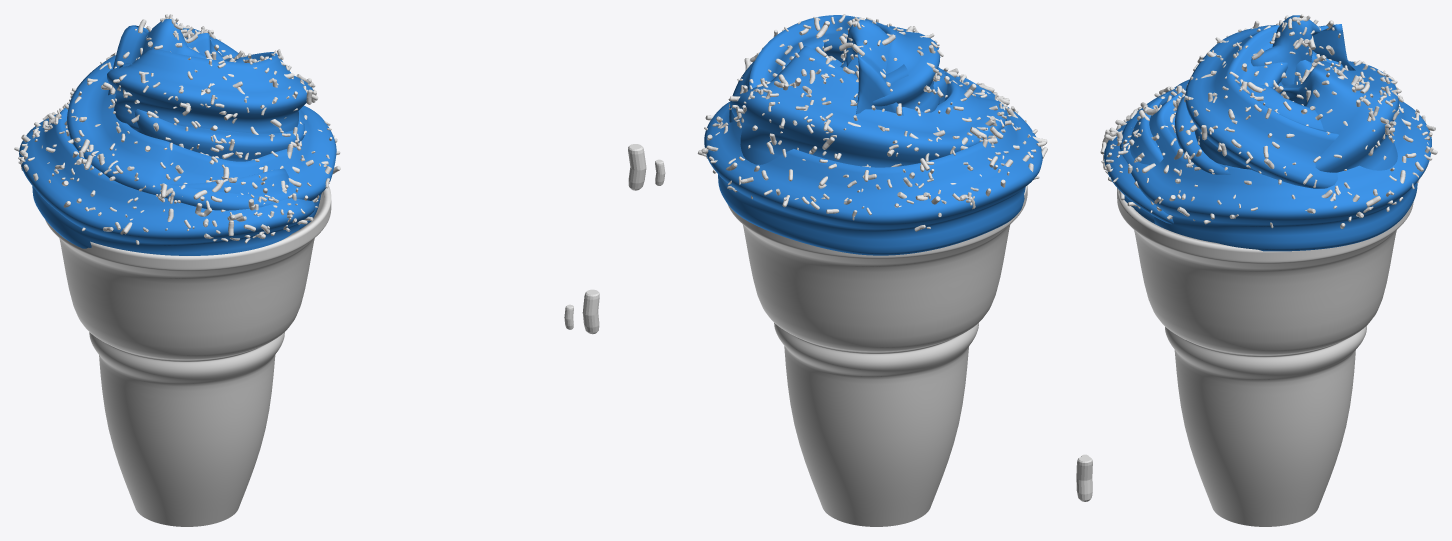
Rendered from BingChilling.fbx.
3 renders of one model, left to right at view 1: azimuth 30°, elevation 25°; view 2: azimuth 150°, elevation 25°; view 3: azimuth 270°, elevation 25°, orthographic. The views are drawn at different scales.
Parts seen in each view (by area): view 1: Cylinder, Circle, Cylinder.001; view 2: Circle, Cylinder, Cylinder.001; view 3: Cylinder, Circle, Cylinder.001.
Part boxes in pixels (x1=…): Cylinder: x1=45, y1=185, x2=331, y2=526; Circle: x1=19, y1=19, x2=336, y2=255; Cylinder.001: x1=582, y1=289, x2=599, y2=334; Circle: x1=704, y1=15, x2=1042, y2=255; Cylinder: x1=727, y1=185, x2=1027, y2=526; Cylinder.001: x1=628, y1=144, x2=646, y2=190; Cylinder: x1=1117, y1=188, x2=1413, y2=526; Circle: x1=1104, y1=15, x2=1431, y2=251; Cylinder.001: x1=1076, y1=456, x2=1092, y2=501.
Bounding box in the file's own units: 456 × 448 × 299.
